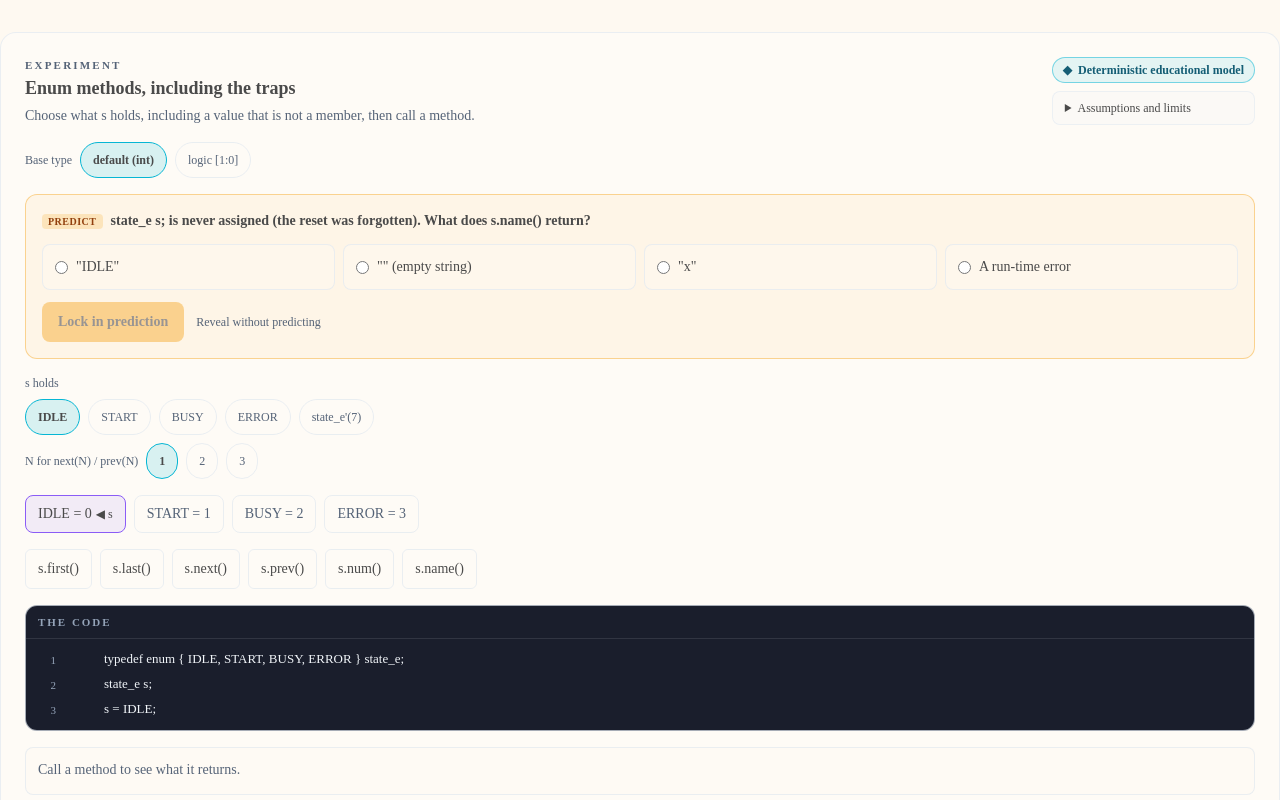
Scenario: EnumMethodVisualizer › supports next(N), num() and assigning the result back to s
Click the radio button labelled "3": x=242, y=460 [226, 442, 258, 478]
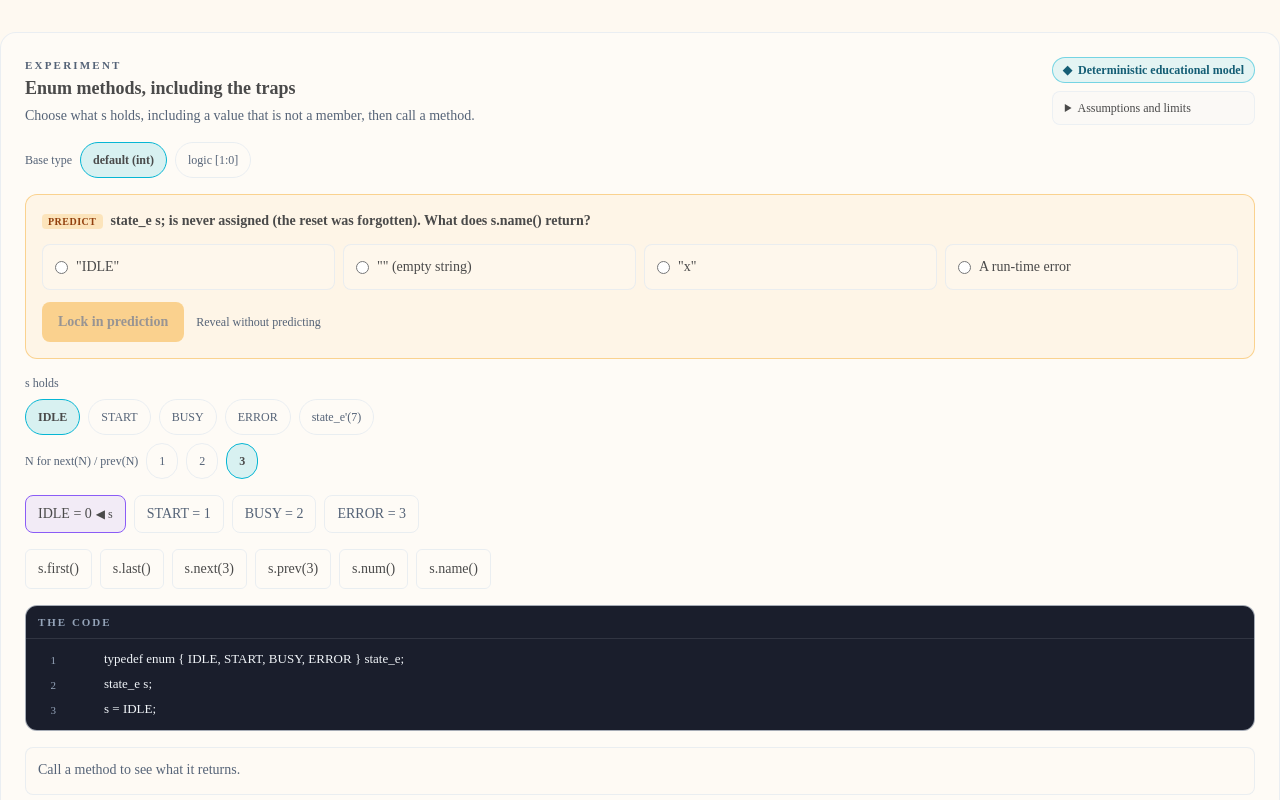
Click the button "s.next(3)": x=209, y=568 [172, 548, 247, 588]
(page scrolled)
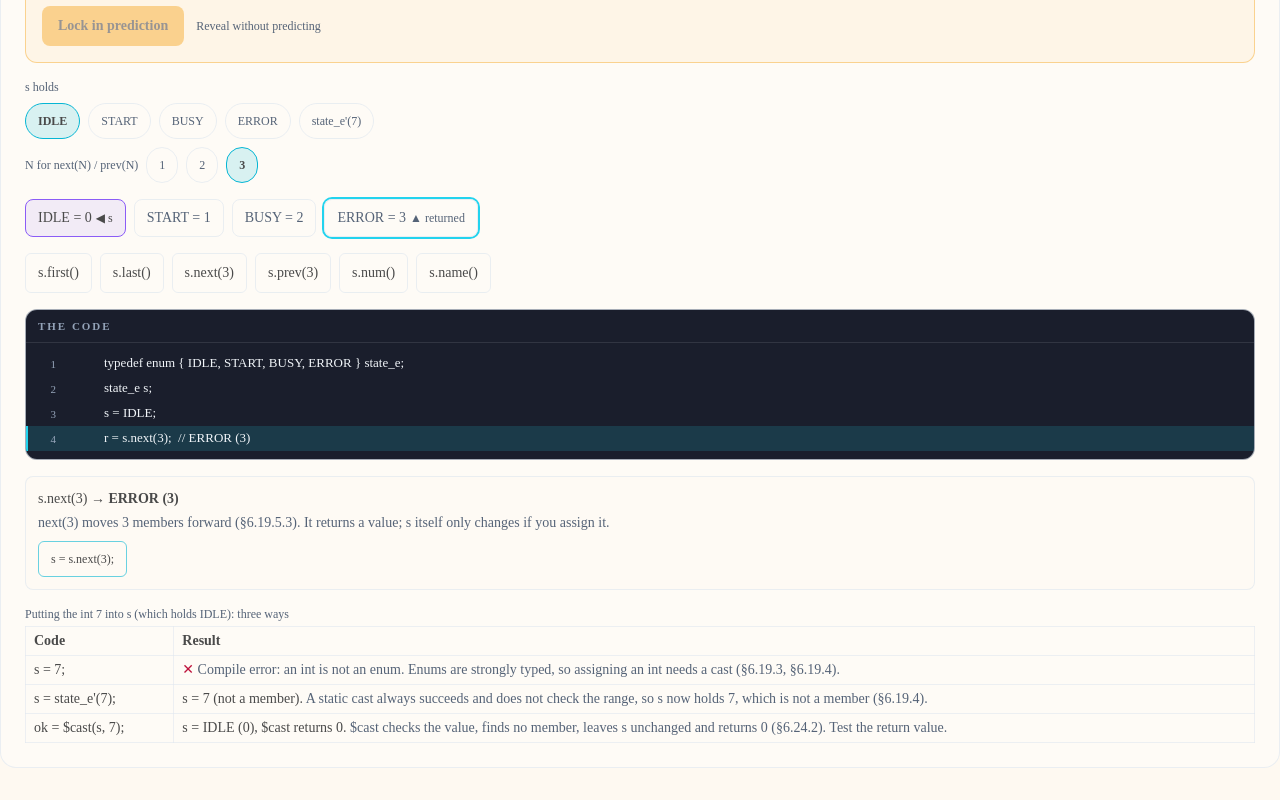
Now the text "moves 3 members forward" is shown, box [38, 515, 610, 530]
Click the button "s = s.next(3);": x=83, y=559 [38, 541, 127, 577]
(page scrolled)
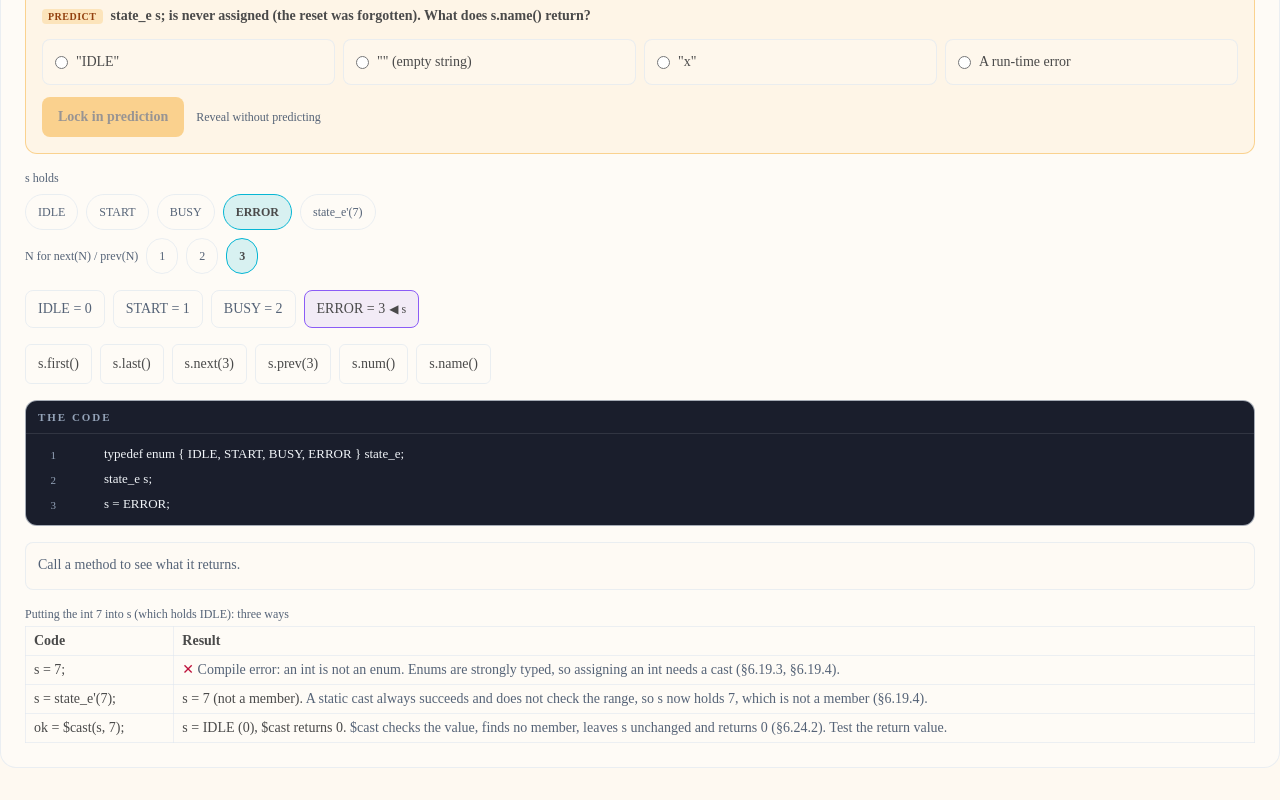
Now the radio button labelled "ERROR" is checked, box [223, 194, 292, 230]
Click the button "s.num()": x=374, y=364 [339, 344, 408, 384]
(page scrolled)
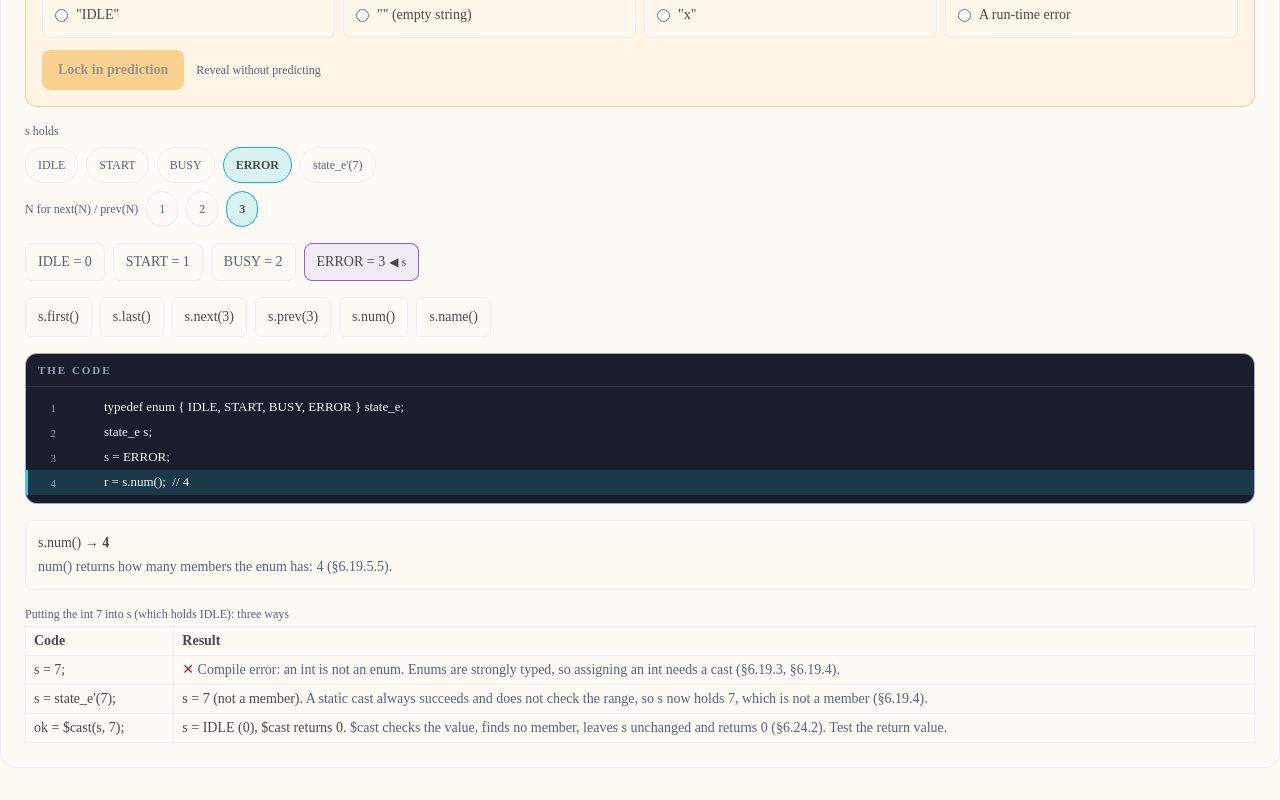
Now the text "num() returns how many members the enum has: 4 (§6.19.5.5)." is shown, box [38, 559, 392, 574]
